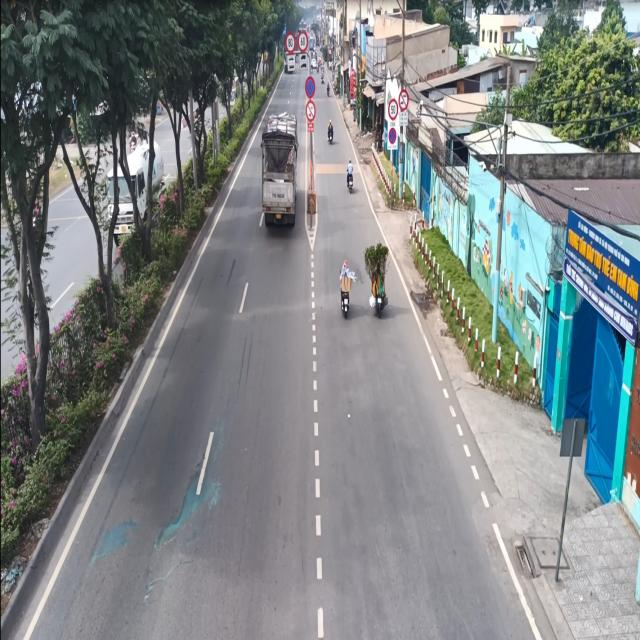motorbike: (333, 247, 352, 326), (345, 156, 356, 200), (325, 113, 335, 151)
truck: (259, 105, 299, 232)
